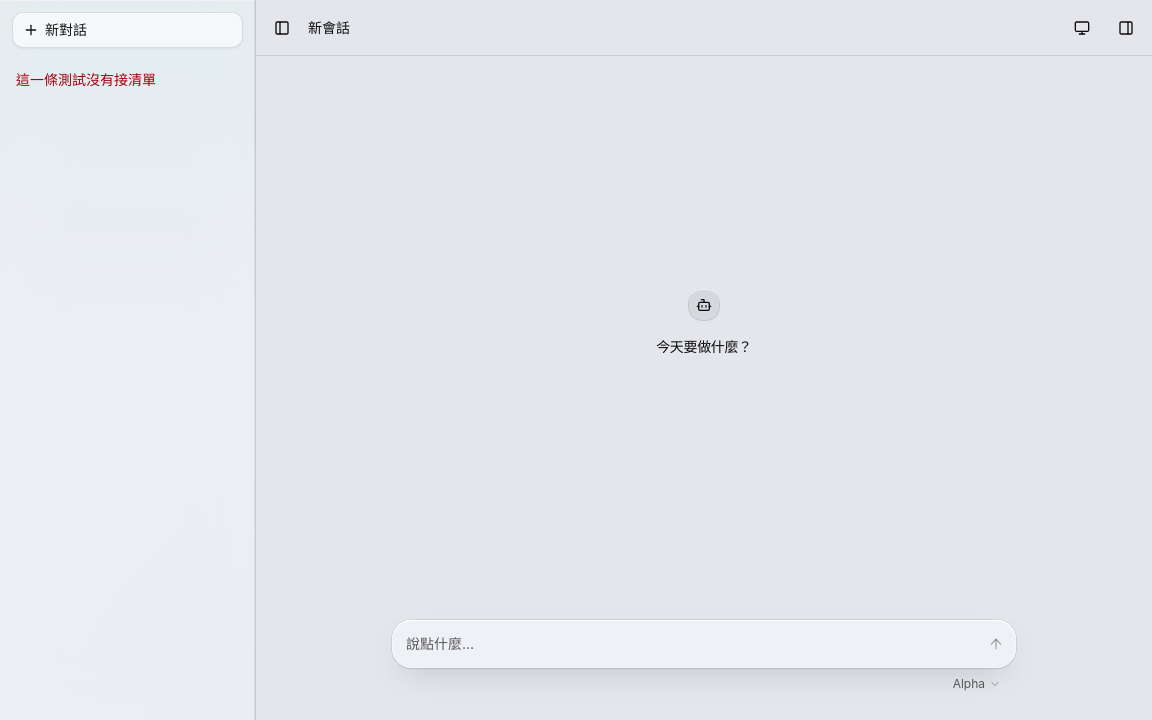
Test: 模型座（#723） › 選不上（model_unavailable）：說出來，座位不變
This screenshot has width=1152, height=720.
Click the button "Alpha".
click(977, 684)  # box 947,672 -> 1007,696
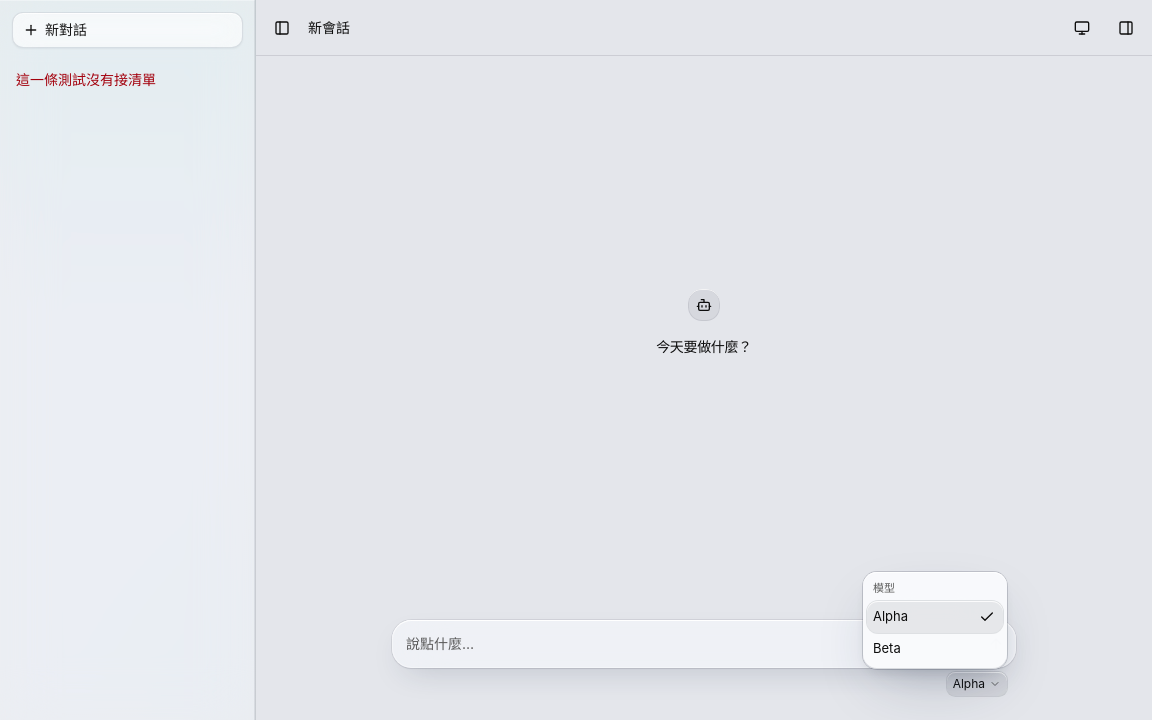
Click the menu item "Beta".
click(887, 648)  # box 873,640 -> 901,656
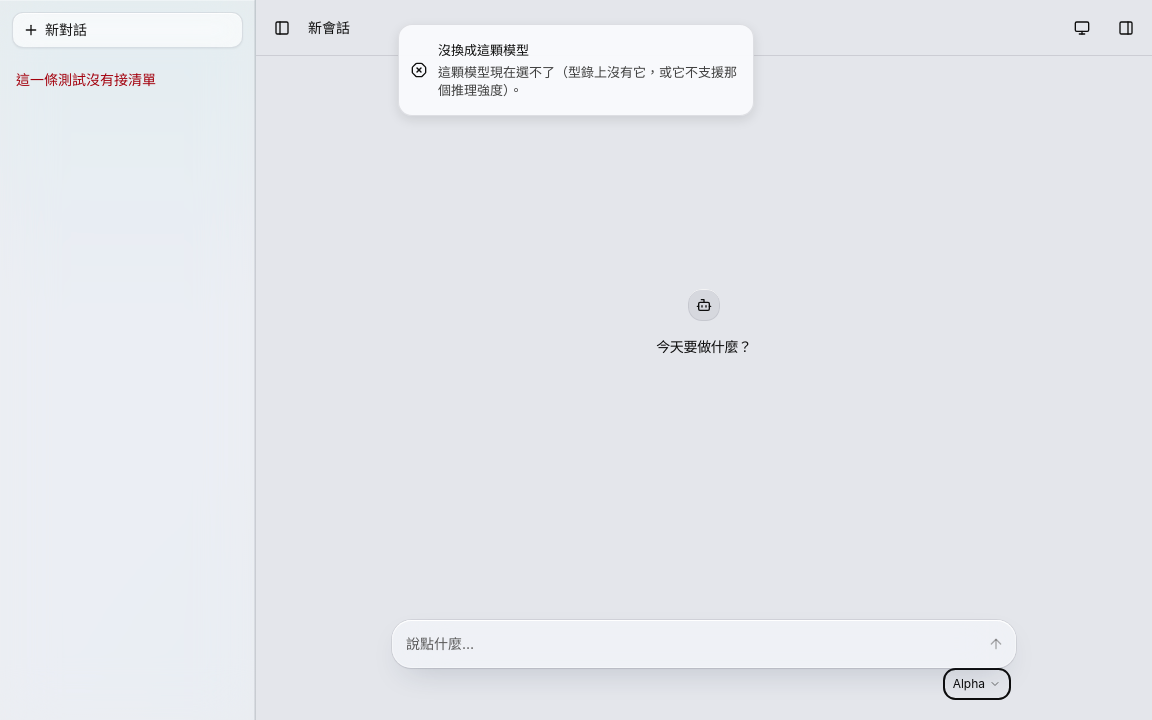
Now the text "這顆模型現在選不了（型錄上沒有它，或它不支援那個推理強度）。" is shown, box 438,62 -> 737,99
